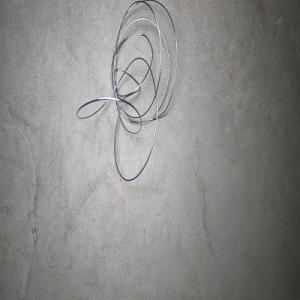Wire: (76, 0, 177, 181)
